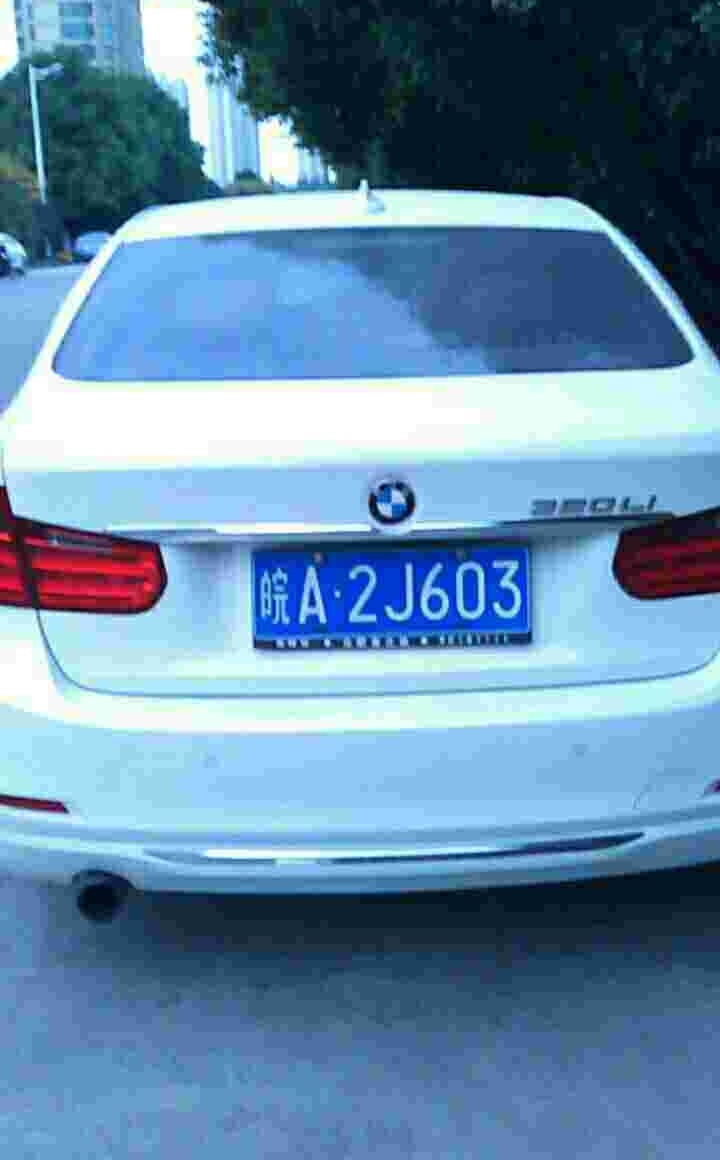license_plate: (246, 547, 566, 651)
